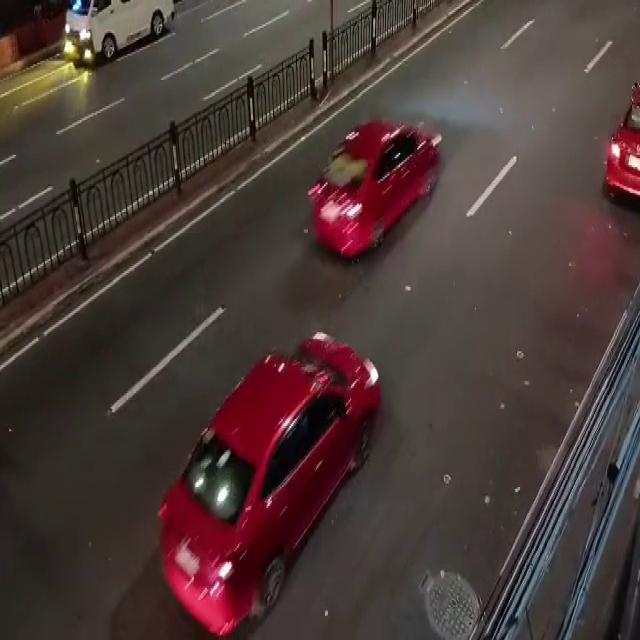car: (148, 317, 392, 638), (298, 104, 464, 284), (596, 76, 640, 220)
